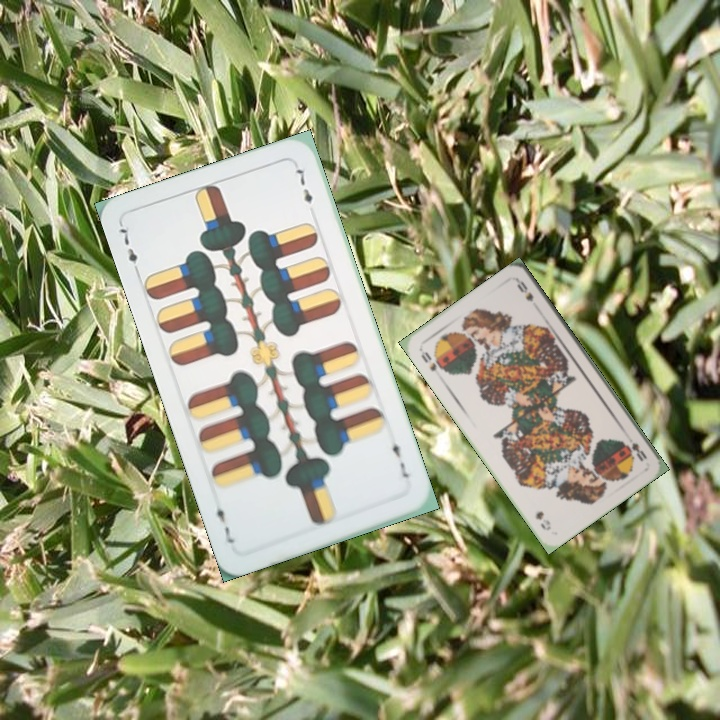E7: (115, 220, 142, 277), (388, 433, 413, 481)
SO: (623, 438, 650, 464), (417, 348, 439, 374)
